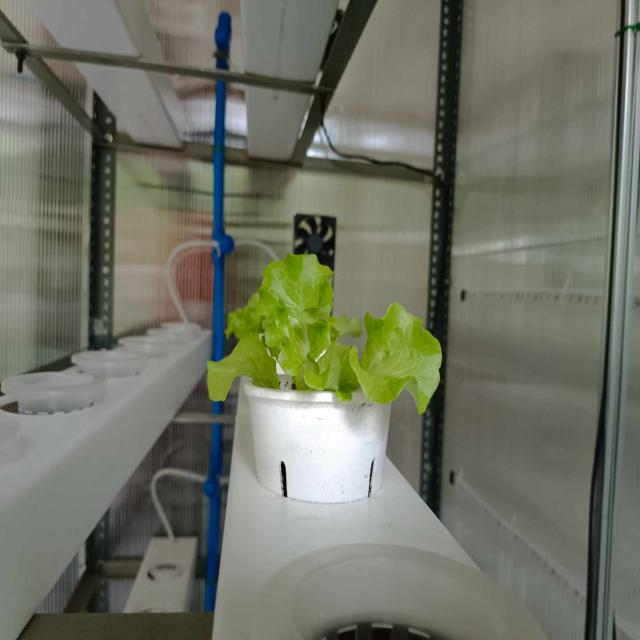Lettuce-Not-Ready-to-Harvest: (203, 244, 442, 421)
